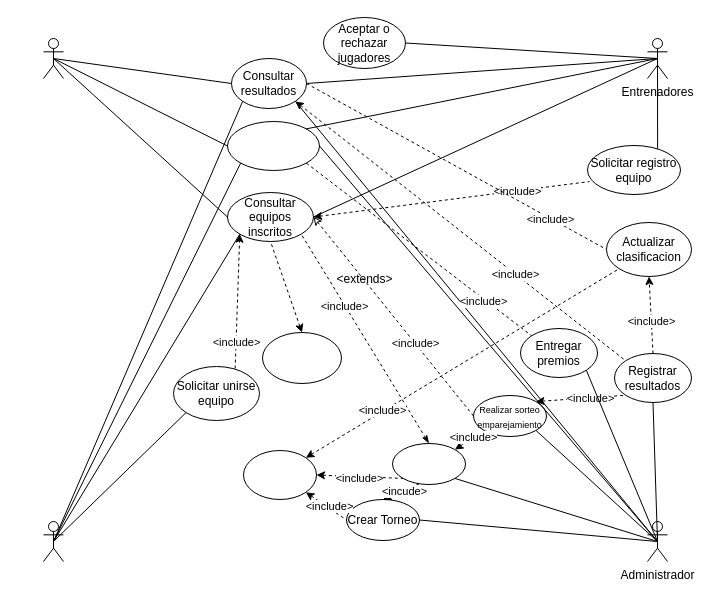
This 712x600 diagram has some shape labels left out. Each missing label, with the centre of its shape:
Comprobar existencia torneo: (279,475)
Consultar clasificaciones: (273,145)
Consultar jugadores: (302,358)
Espectadores: (53,58)
Inscribir equipos: (429,463)
Jugadores: (53,541)
